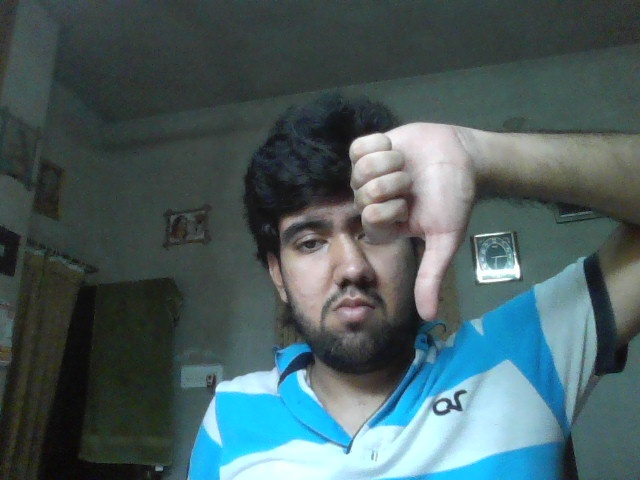NotOk: (350, 122, 473, 321)
